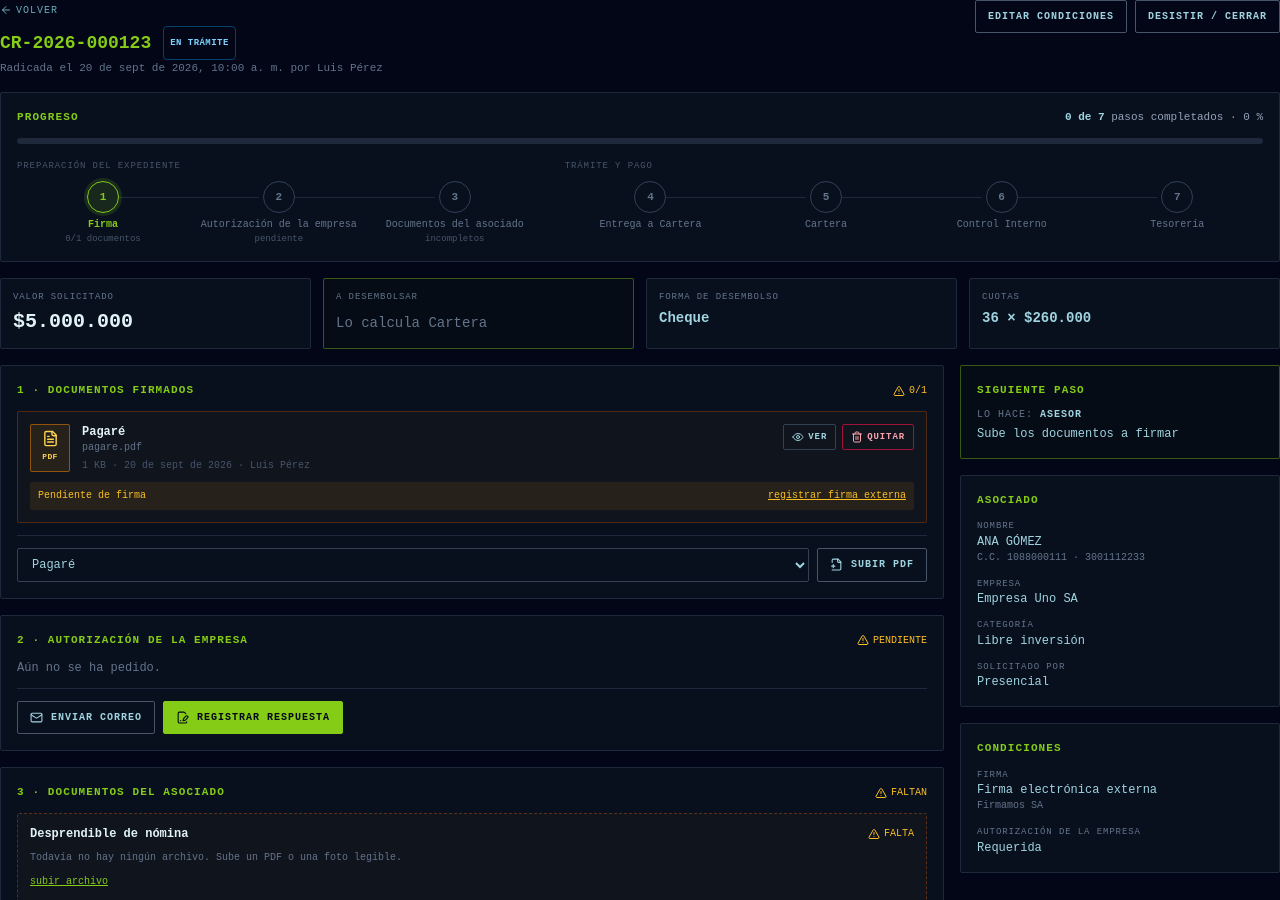
Test: Expediente — 1. documentos firmados › firma externa: en vez del motor ofrece registrar la firma de cada documento pendiente
Expected: the heading "CR-2026-000123 EN TRÁMITE" is shown, [0,26,236,60]
Click the button "registrar firma externa" at [837, 496], box [768,488,906,504]
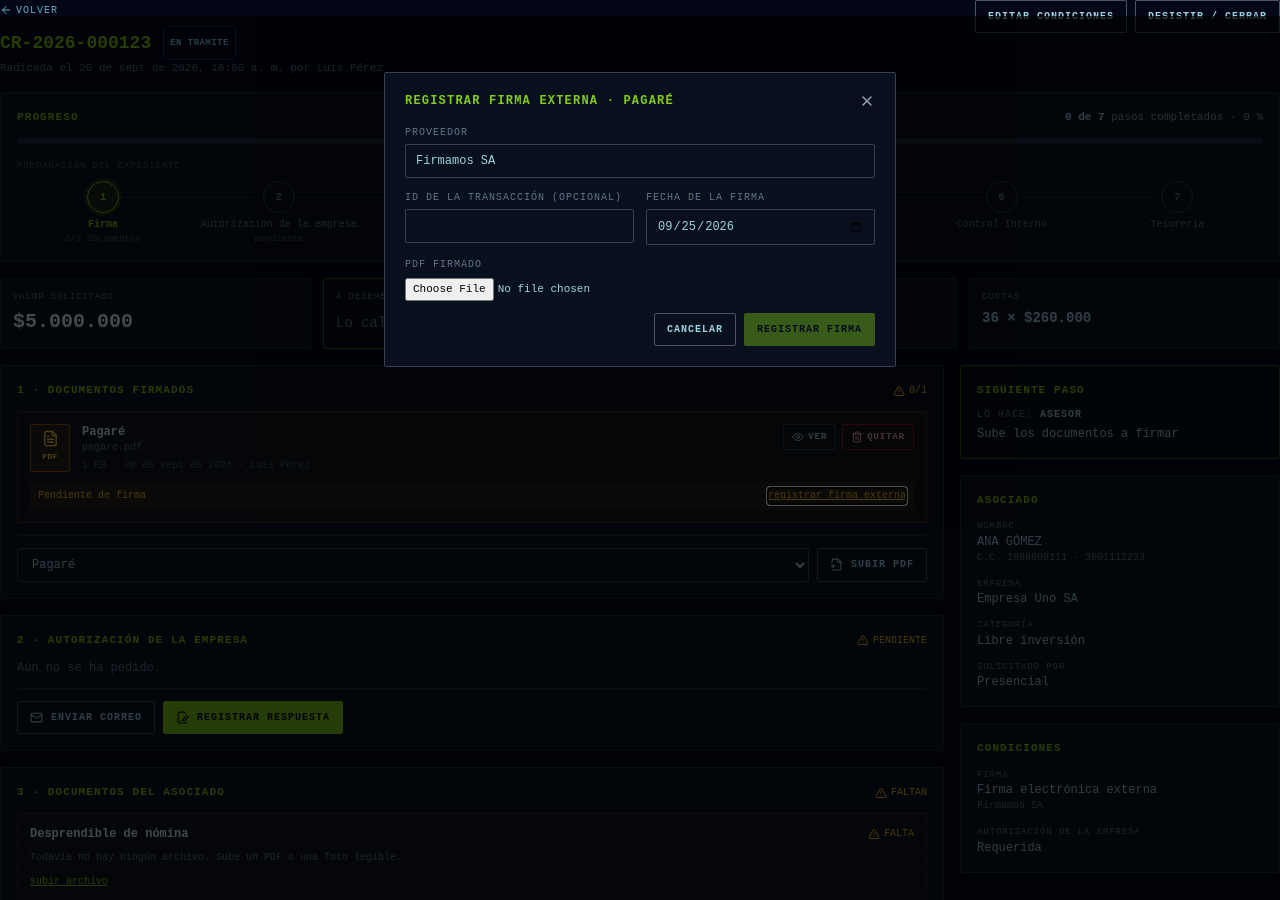
Expected: the field labelled "PROVEEDOR" holds "Firmamos SA", [405,144,875,178]
